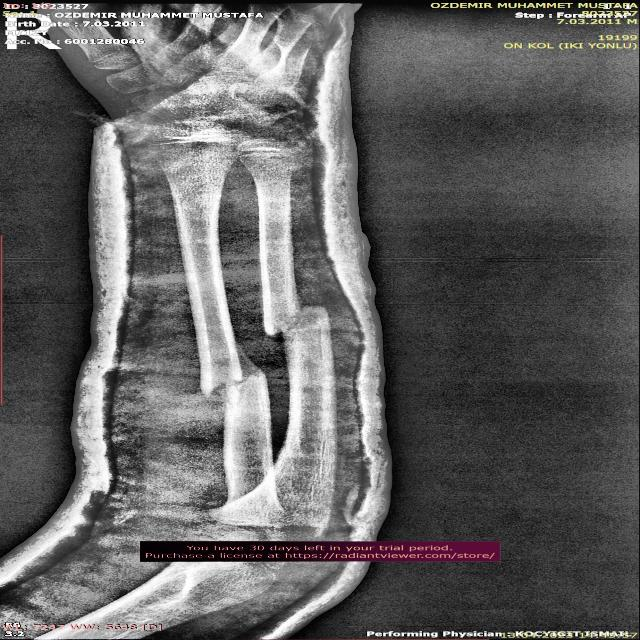Fracture: (258, 300, 336, 338), (193, 365, 271, 401)
